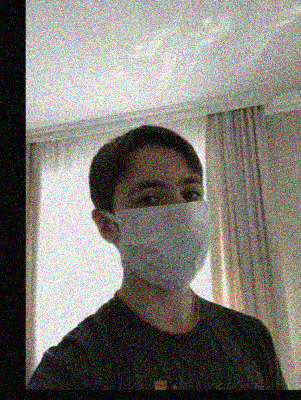with_mask: (111, 166, 213, 294)
